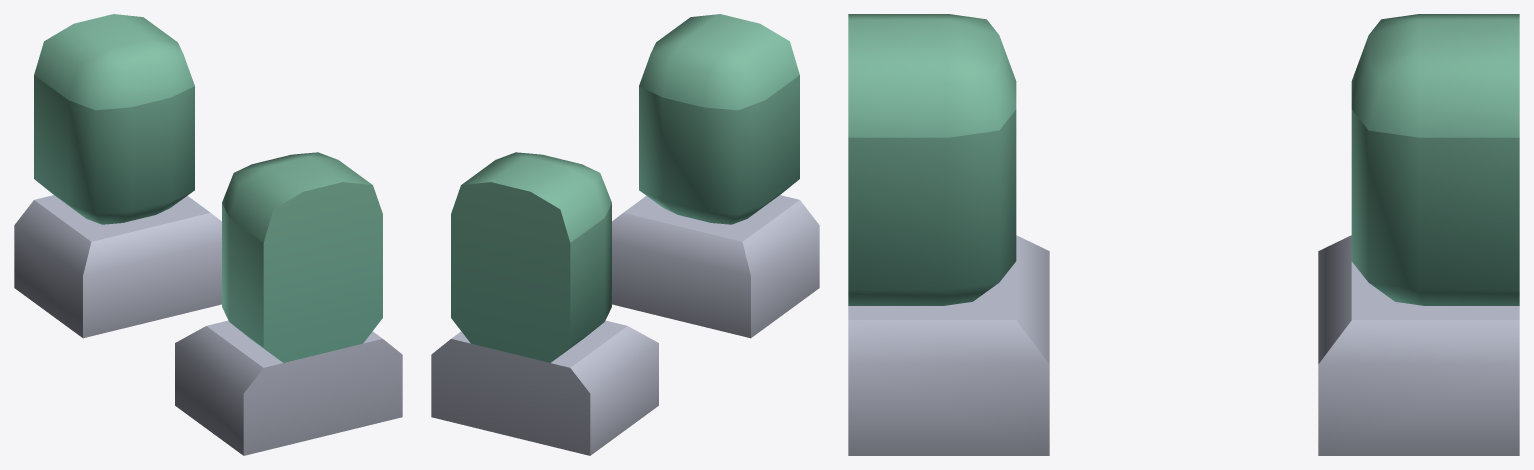
File: hedge-large-gate.glb
The picture shows the model from 3 angles, left to right: view 1: azimuth 30°, elevation 25°; view 2: azimuth 150°, elevation 25°; view 3: azimuth 270°, elevation 25°; orthographic projection. The views are drawn at different scales.
Visible parts, largest first — view 1: hedge-large-gate; view 2: hedge-large-gate; view 3: hedge-large-gate.
Boxes of the visible parts, x1,y1,x2,y2 form: hedge-large-gate: [14, 14, 402, 455]; hedge-large-gate: [431, 14, 819, 455]; hedge-large-gate: [848, 14, 1519, 455].
Bounding box in the file's own units: 0.4 × 0.6 × 1.
